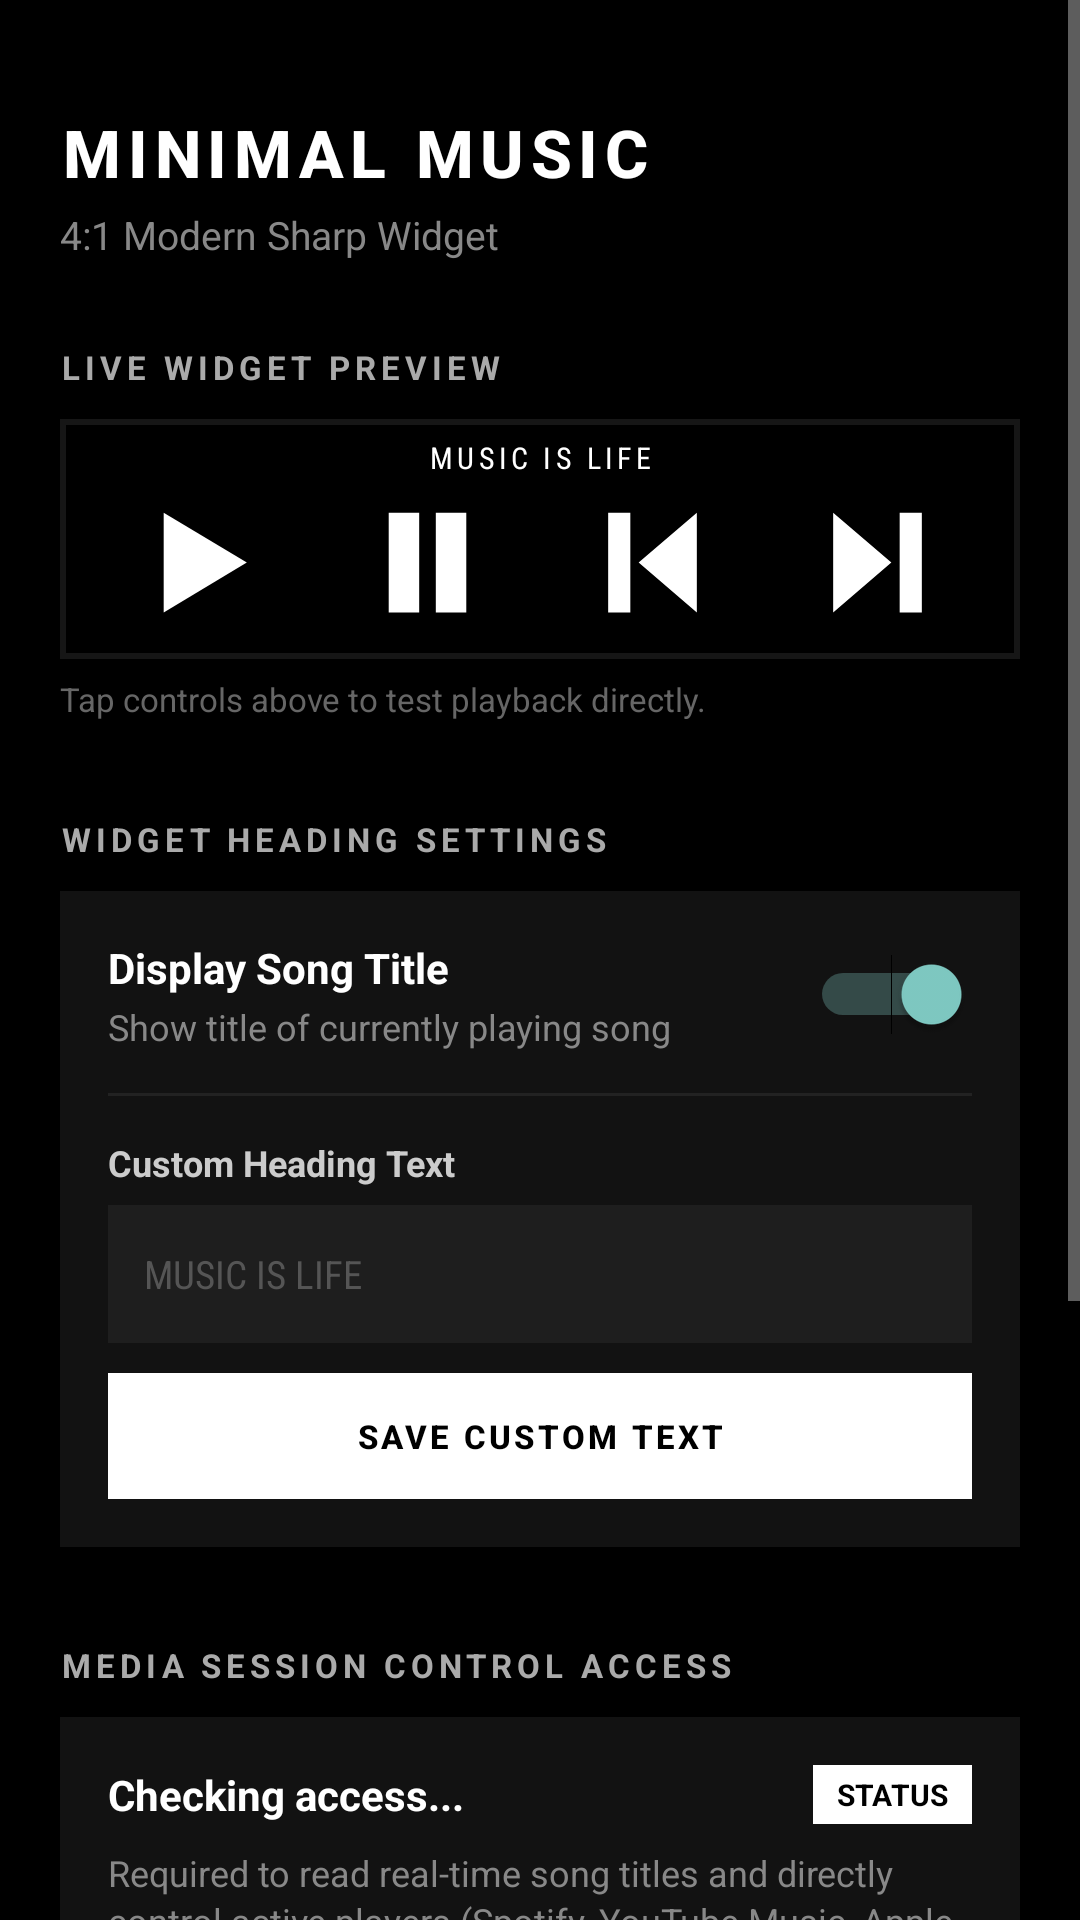

Icon click points for this 1080px×1920px phone screenshot, format (x,y):
Next: (877,562)
Pause: (427,562)
Previous: (652,562)
